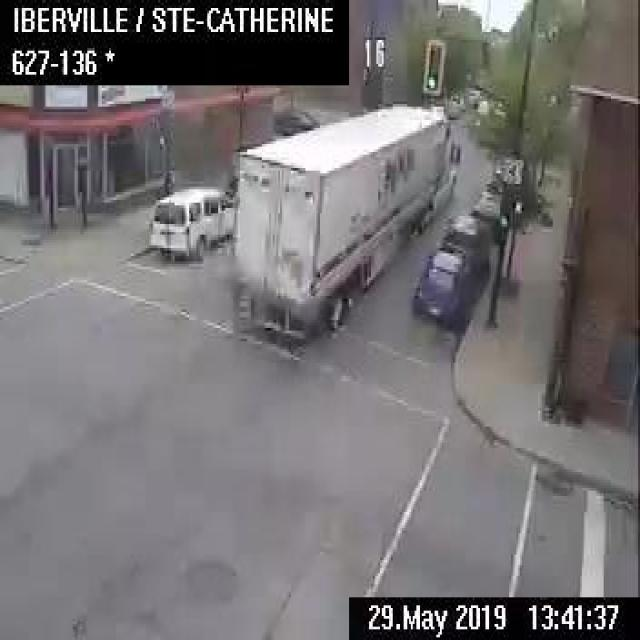vehicle: (228, 99, 462, 341), (149, 181, 233, 263), (410, 242, 473, 333), (440, 212, 489, 281), (269, 104, 318, 135), (470, 184, 504, 228)
